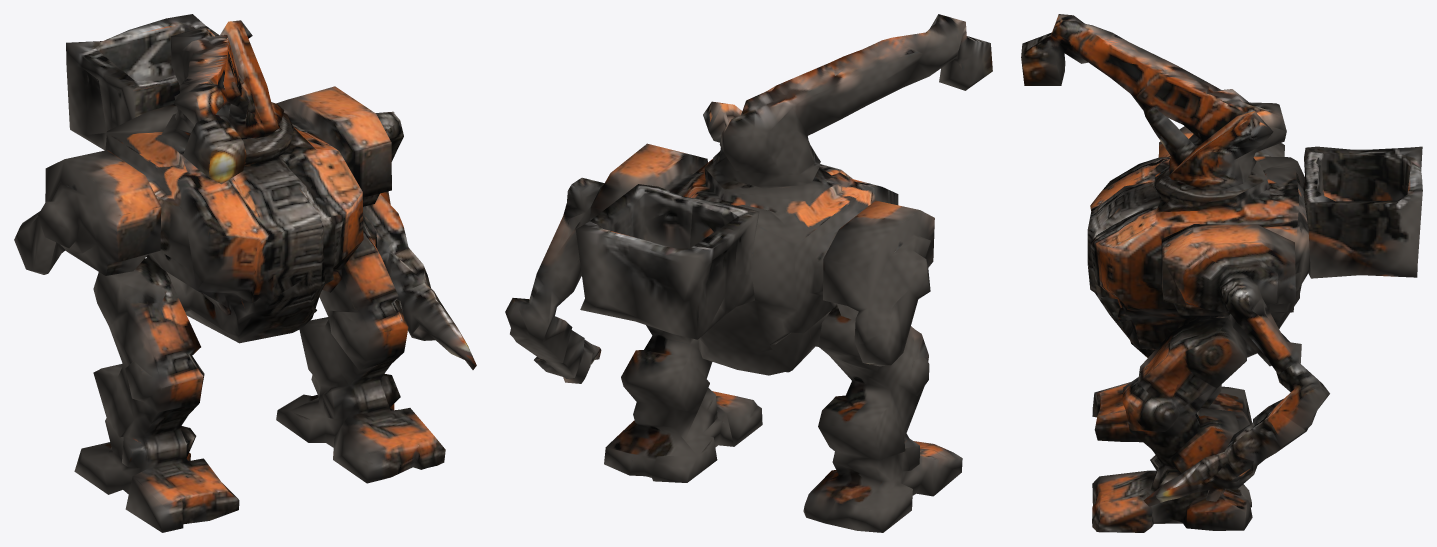
The model's file is riveter_lod2.glb.
The picture shows the model from 3 angles, left to right: view 1: azimuth 30°, elevation 25°; view 2: azimuth 150°, elevation 25°; view 3: azimuth 270°, elevation 25°; orthographic projection. The views are drawn at different scales.
Parts seen in each view (by area): view 1: geometry_0; view 2: geometry_0; view 3: geometry_0.
Boxes of the visible parts, x1=… form: geometry_0: x1=14, y1=14, x2=476, y2=532; geometry_0: x1=505, y1=14, x2=992, y2=532; geometry_0: x1=1021, y1=14, x2=1422, y2=532.
Size of the model in its own units: 1.84 by 1.99 by 1.8.
1 material, 1 textured.
